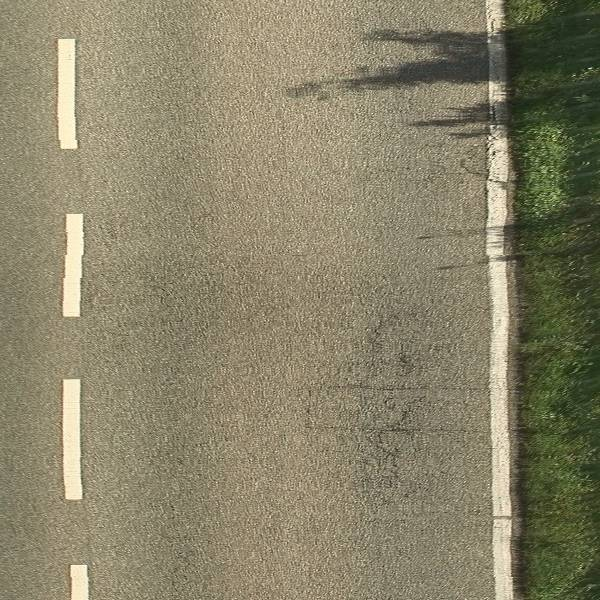road_damage: (352, 304, 428, 510), (295, 376, 516, 436)
